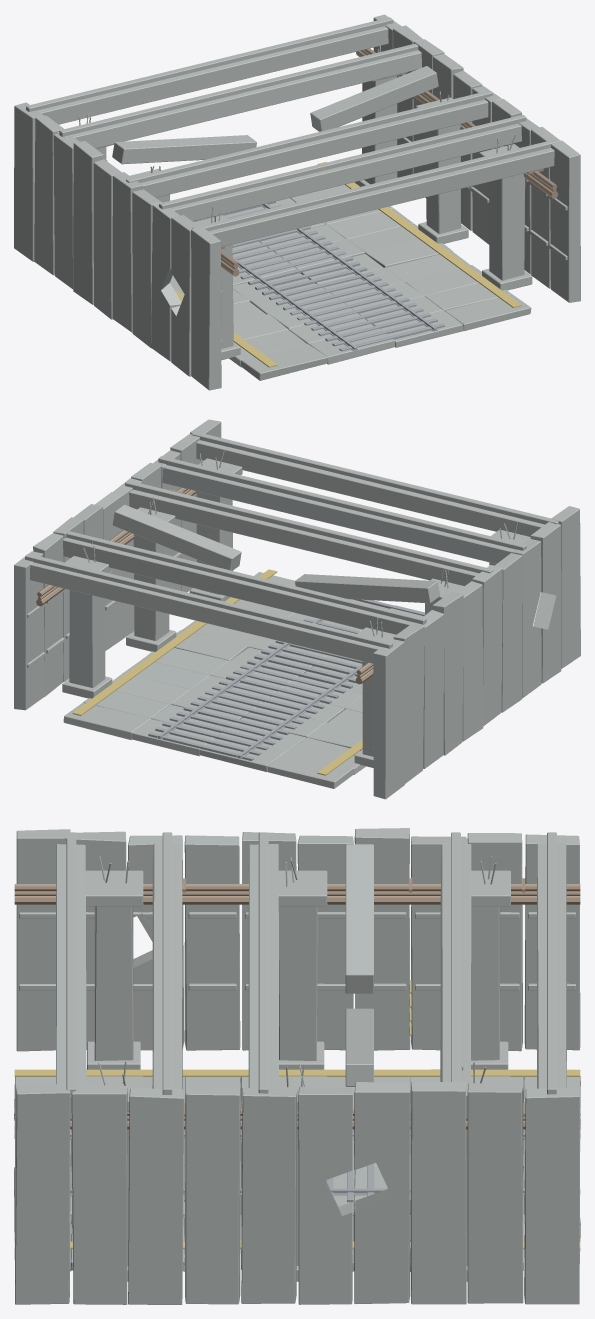
Rendered from tunnel_module-CZEVRCyJ.glb.
3 views of the same model, one above another, from view 1: azimuth 30°, elevation 25°; view 2: azimuth 150°, elevation 25°; view 3: azimuth 270°, elevation 25° (orthographic). The views are drawn at different scales.
Visible parts, largest first — view 1: TunnelBeams, TunnelWall, TunnelFloor, TunnelRails, TunnelPillars, TunnelHazard, TunnelPipes; view 2: TunnelBeams, TunnelWall, TunnelFloor, TunnelPillars, TunnelRails, TunnelHazard, TunnelPipes; view 3: TunnelWall, TunnelBeams, TunnelPillars, TunnelPipes, TunnelFloor, TunnelHazard, TunnelRails.
Part boxes in pixels (x1,y1,x2,y2): TunnelBeams: [23, 17, 559, 247]; TunnelWall: [14, 14, 580, 390]; TunnelFloor: [170, 182, 531, 380]; TunnelRails: [193, 201, 444, 351]; TunnelPillars: [78, 45, 532, 360]; TunnelHazard: [173, 162, 521, 367]; TunnelPipes: [105, 48, 558, 276]; TunnelBeams: [25, 431, 558, 663]; TunnelWall: [14, 419, 580, 799]; TunnelFloor: [63, 572, 424, 788]; TunnelPillars: [62, 451, 530, 767]; TunnelRails: [148, 599, 424, 760]; TunnelHazard: [72, 569, 362, 775]; TunnelPipes: [36, 487, 373, 684]; TunnelWall: [15, 828, 580, 1304]; TunnelBeams: [56, 832, 566, 1118]; TunnelPillars: [85, 855, 510, 1281]; TunnelPipes: [14, 878, 580, 1129]; TunnelFloor: [14, 1069, 580, 1271]; TunnelHazard: [14, 980, 580, 1249]; TunnelRails: [14, 1129, 580, 1202].
Size of the model in its own units: 21.97 by 8.72 by 20.05.
